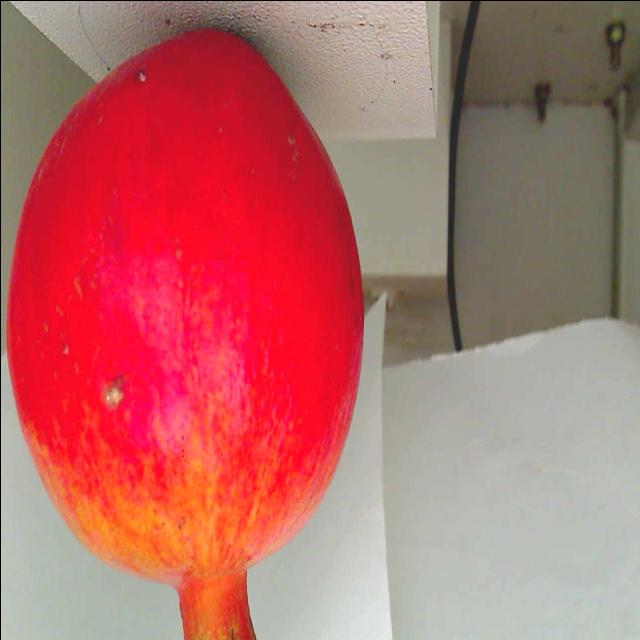pomegranate: (0, 0, 371, 640)
